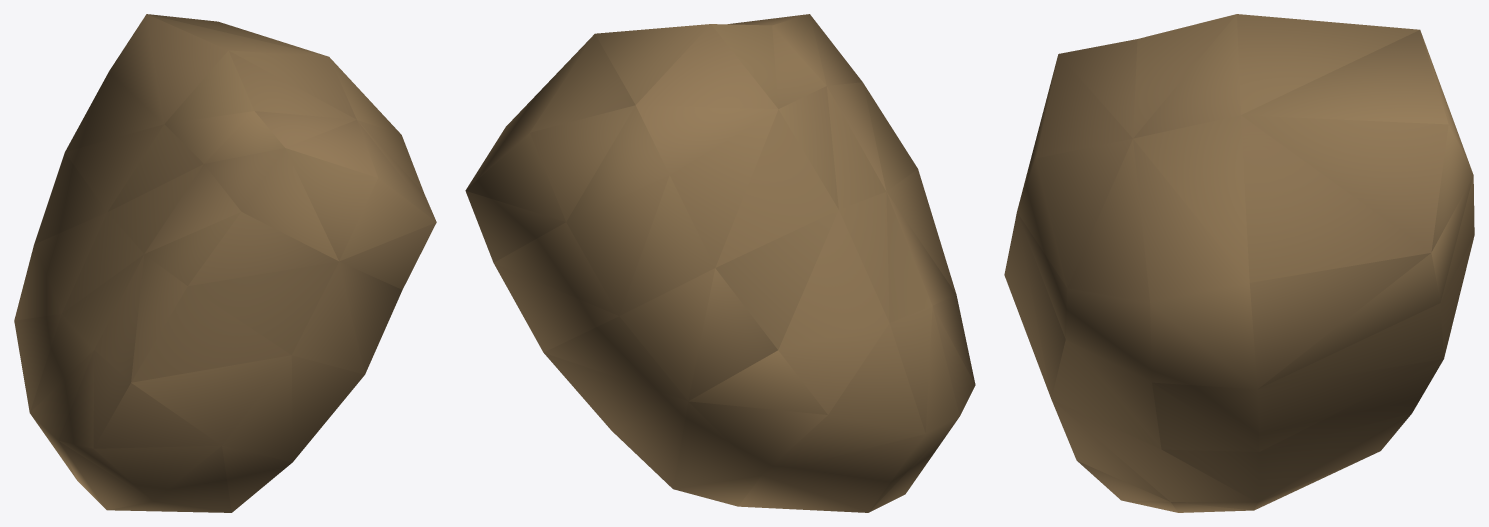
Rendered from SmallSandChunk.007.glb.
3 views of the same model, side by side, from view 1: azimuth 30°, elevation 25°; view 2: azimuth 150°, elevation 25°; view 3: azimuth 270°, elevation 25° (orthographic). The views are drawn at different scales.
Parts seen in each view (by area): view 1: SmallSandChunk.007; view 2: SmallSandChunk.007; view 3: SmallSandChunk.007.
Part boxes in pixels (<box>): SmallSandChunk.007: <box>14,14,436,512</box>; SmallSandChunk.007: <box>465,14,975,512</box>; SmallSandChunk.007: <box>1004,14,1474,512</box>.
Size of the model in its own units: 311 by 339 by 275.
